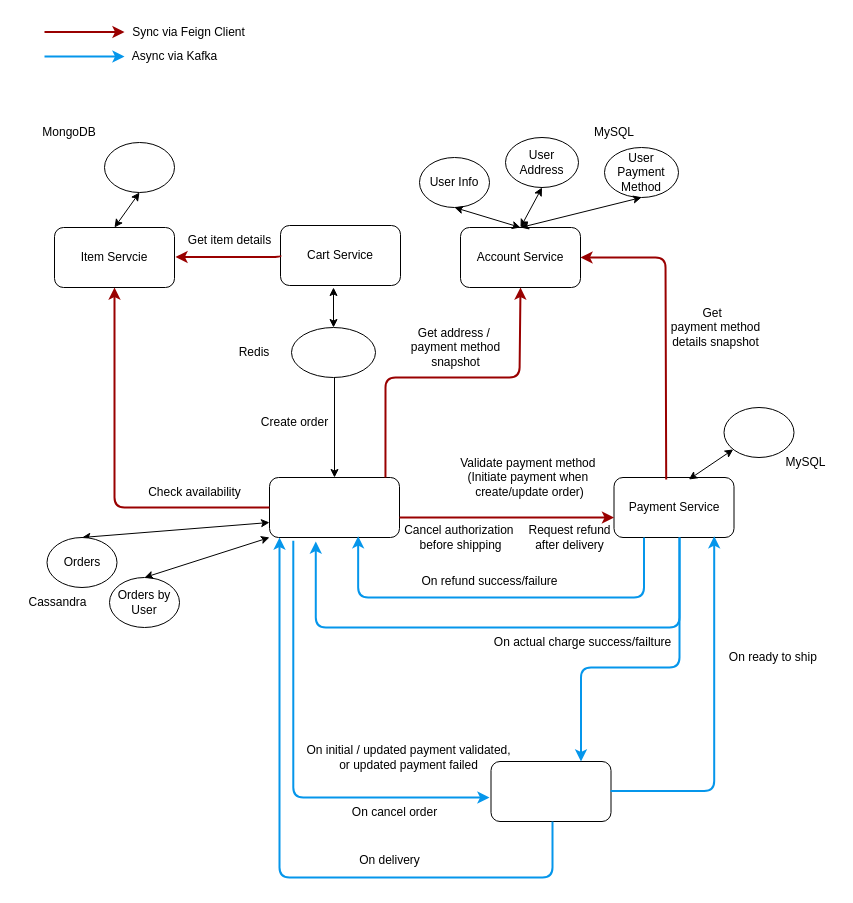
Some shapes in this 853 by 903 pixel diagram are drawn without their labels. Here are the shapes that lost their labels. From the top down, the box of each, then its label:
(104, 142, 174, 192): Item Metadata
(290, 326, 376, 378): Cart items
(723, 406, 794, 458): Payments
(268, 476, 400, 538): Order Service
(490, 760, 611, 822): Shipping Service
